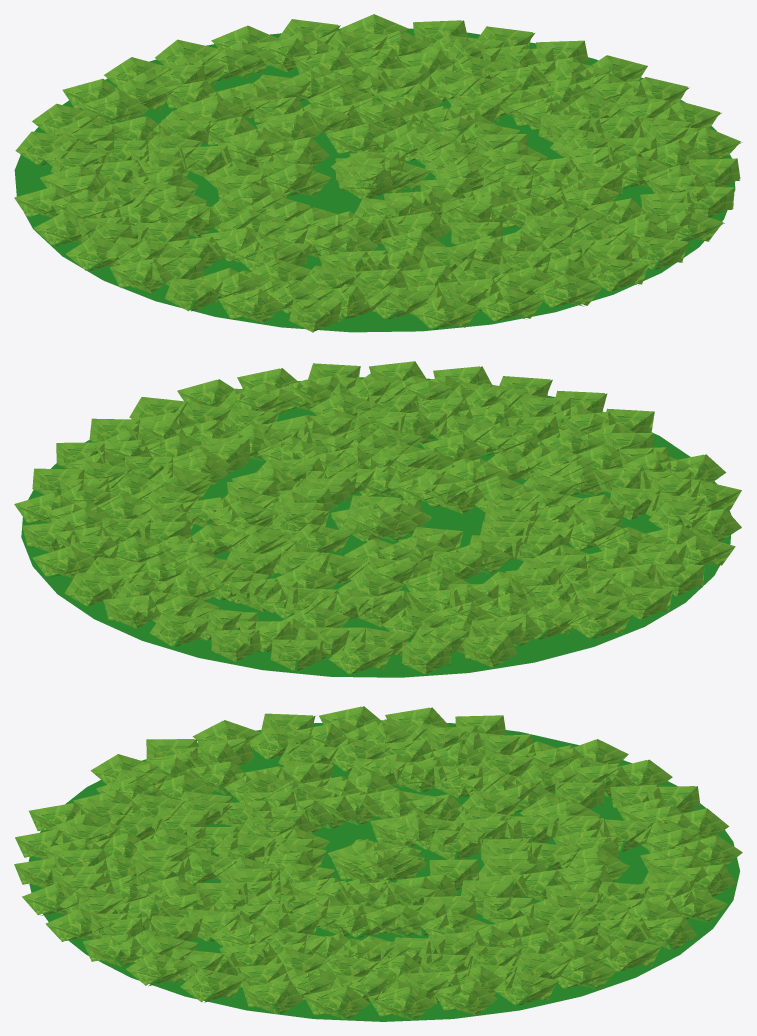
File: grass.gltf
The picture shows the model from 3 angles, top to bottom: view 1: azimuth 30°, elevation 25°; view 2: azimuth 150°, elevation 25°; view 3: azimuth 270°, elevation 25°; orthographic projection.
Visible parts, largest first — view 1: Grass; view 2: Grass; view 3: Grass.
Boxes of the visible parts, x1,y1,x2,y2 form: Grass: [14, 14, 742, 332]; Grass: [14, 361, 741, 677]; Grass: [14, 706, 742, 1021].
Bounding box in the file's own units: 19.99 × 0.334 × 19.96.
2 materials, 1 textured.
